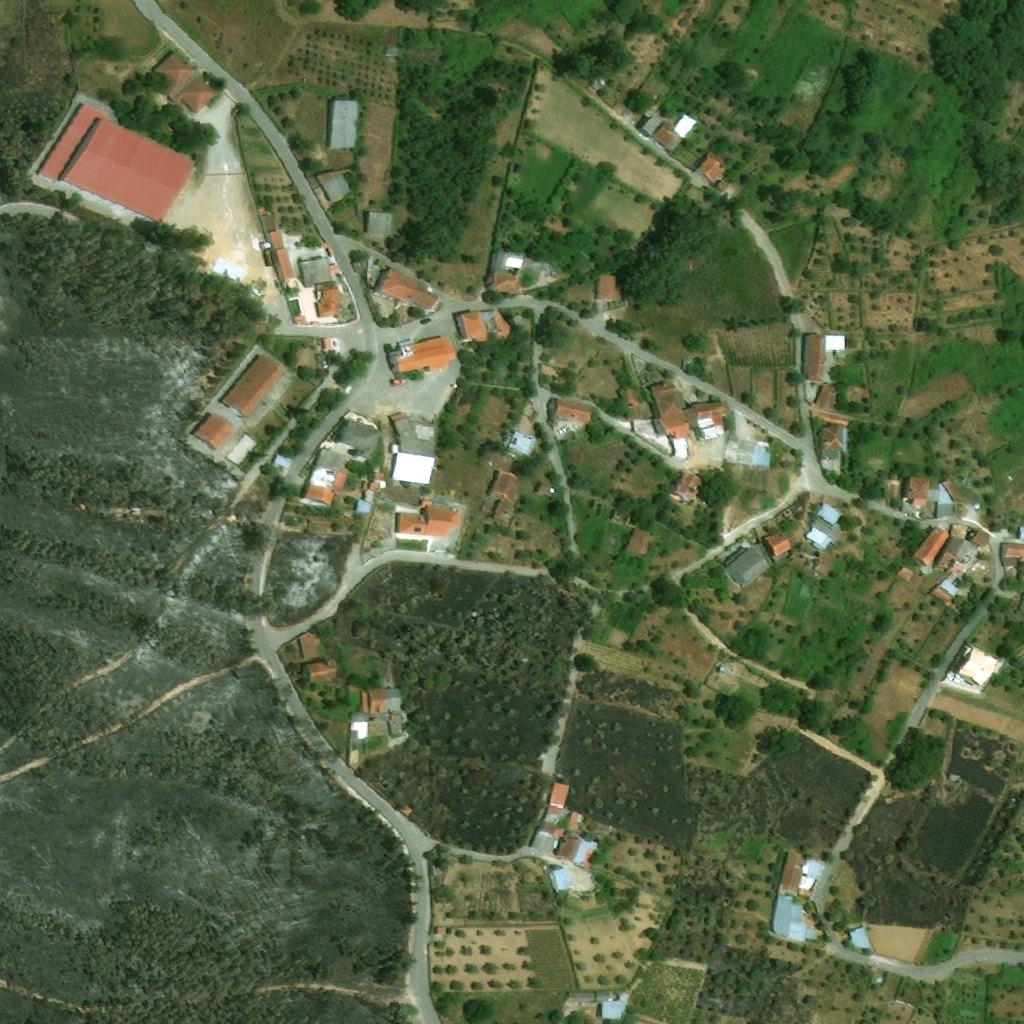0 no-damage: (32, 102, 195, 225), (220, 355, 286, 418), (389, 411, 439, 486), (348, 679, 407, 739), (299, 446, 350, 508), (934, 524, 992, 575), (395, 497, 461, 541), (900, 476, 966, 520), (373, 268, 437, 312), (387, 336, 457, 376), (770, 896, 824, 944), (634, 113, 696, 153), (650, 381, 691, 439), (778, 849, 826, 896), (335, 417, 381, 463), (802, 334, 846, 382), (952, 648, 1004, 687), (152, 52, 195, 99), (456, 308, 512, 343), (725, 545, 769, 589), (172, 74, 217, 115), (324, 99, 358, 150), (491, 470, 521, 527), (811, 384, 850, 427), (569, 991, 628, 1019), (684, 401, 725, 441), (488, 252, 525, 295), (820, 425, 850, 477), (912, 525, 949, 566), (264, 232, 293, 283), (193, 414, 234, 450), (555, 836, 599, 869), (502, 428, 543, 458), (692, 151, 728, 185), (298, 256, 338, 286), (314, 171, 352, 202), (530, 820, 565, 852), (555, 398, 594, 426), (673, 470, 706, 502), (545, 780, 570, 818), (316, 282, 340, 318), (930, 577, 958, 607), (626, 388, 650, 420), (762, 531, 792, 556), (714, 180, 742, 206), (300, 661, 336, 681), (595, 275, 621, 302), (805, 526, 832, 550), (363, 211, 391, 234), (817, 502, 843, 526), (549, 867, 573, 892), (297, 633, 320, 659), (626, 529, 650, 553), (848, 926, 871, 948), (584, 75, 606, 97), (273, 455, 293, 479), (814, 551, 833, 575), (567, 811, 584, 832), (536, 482, 558, 498), (1001, 544, 1023, 560), (1001, 558, 1017, 578), (896, 566, 915, 582), (259, 215, 276, 232), (363, 482, 377, 501), (885, 479, 900, 496), (355, 499, 371, 514), (322, 337, 338, 351), (480, 501, 493, 514), (399, 803, 413, 815), (384, 48, 397, 58), (294, 315, 306, 325), (256, 207, 269, 216)
4 un-classified: (970, 559, 990, 578)
